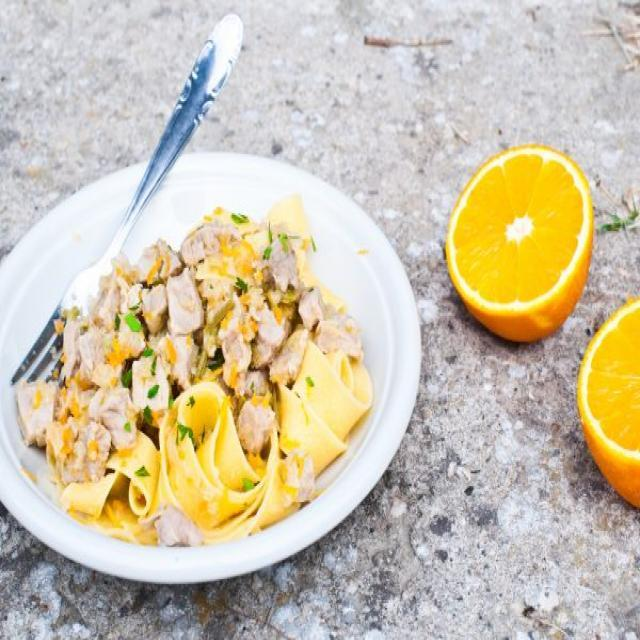Pasta al ragu: (42, 176, 390, 562)
